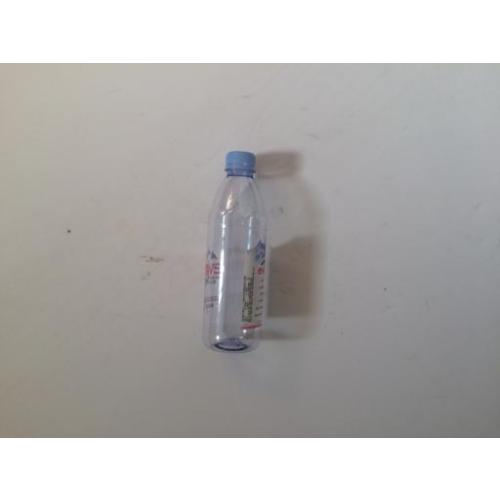plastic: (203, 150, 269, 352)
